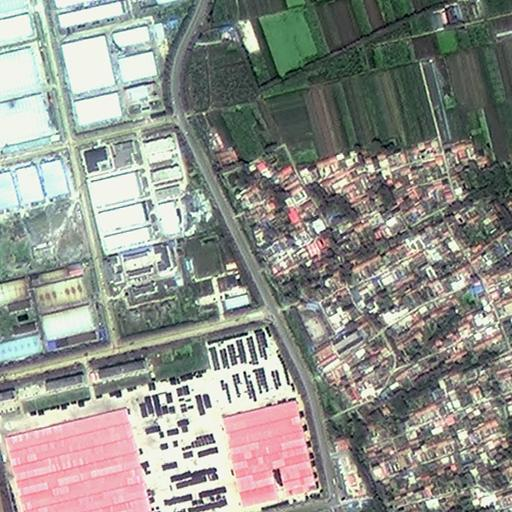school: (299, 299, 370, 367)
